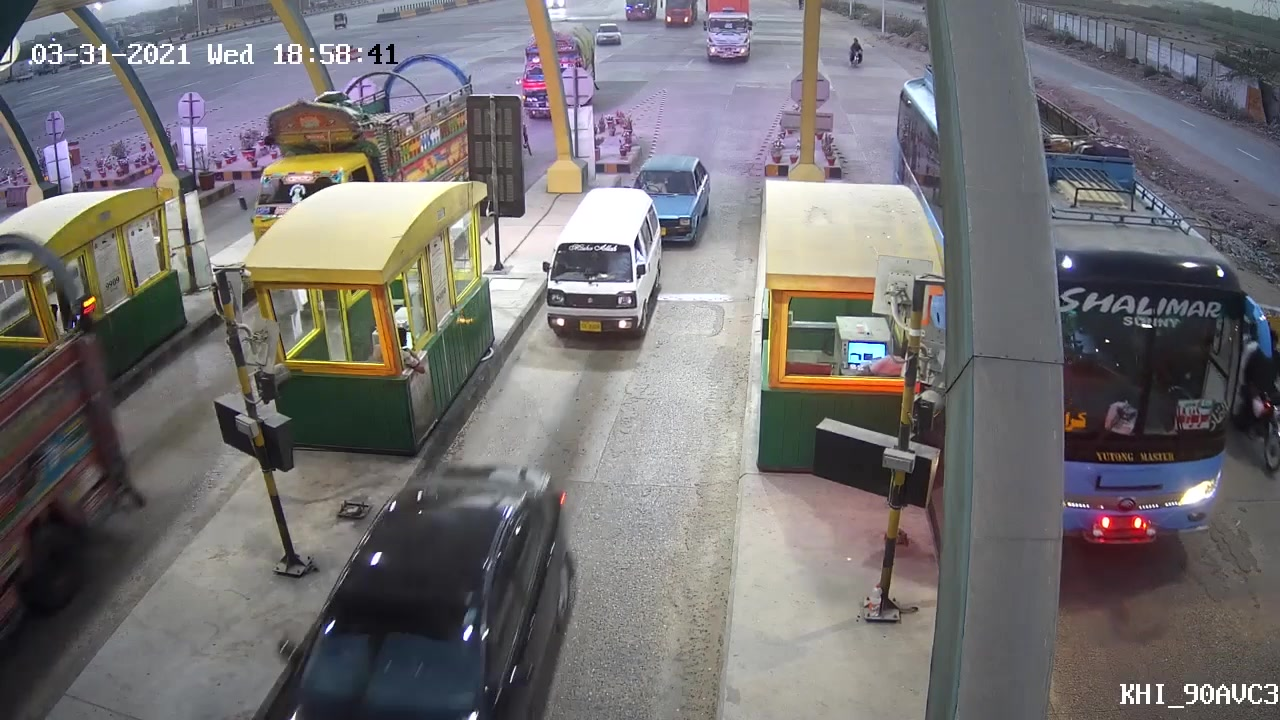F1: (532, 182, 669, 354)
